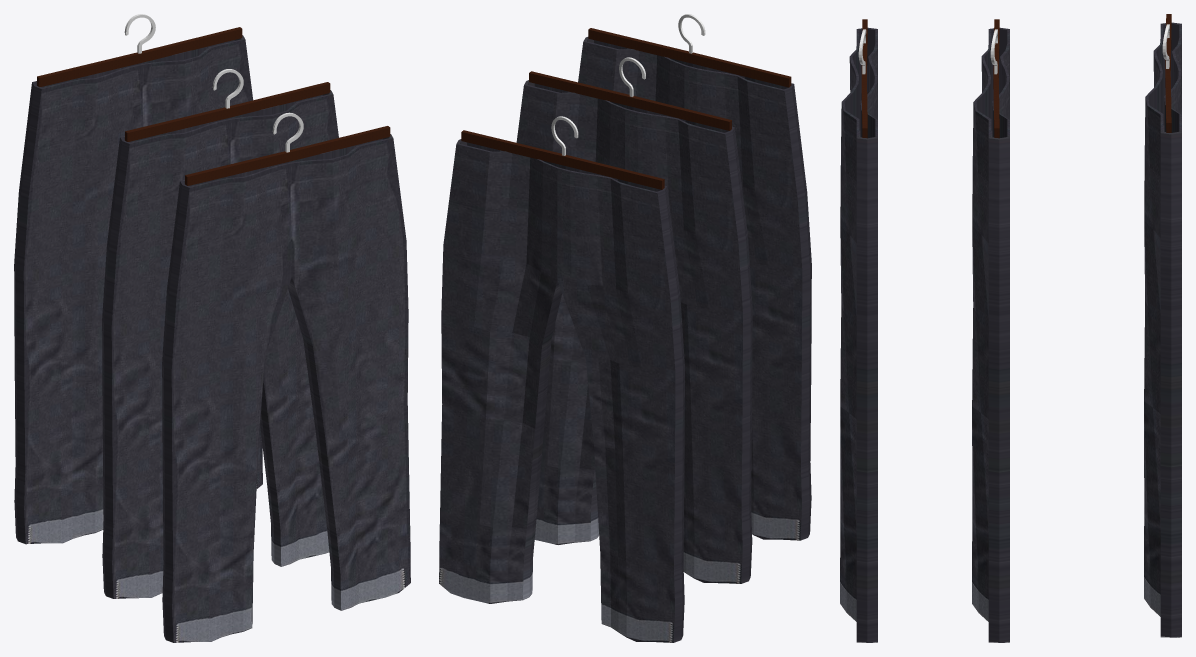
File: jack_o_3.glb
3 renders of one model, left to right at view 1: azimuth 30°, elevation 25°; view 2: azimuth 150°, elevation 25°; view 3: azimuth 270°, elevation 25°, orthographic. The views are drawn at different scales.
Parts seen in each view (by area): view 1: Plane.036; view 2: Plane.036; view 3: Plane.036.
Boxes of the visible parts, left/top/right/bottom form: Plane.036: left=14, top=14, right=410, bottom=642; Plane.036: left=439, top=14, right=811, bottom=642; Plane.036: left=840, top=14, right=1181, bottom=642.
Bounding box in the file's own units: 0.2476 × 0.4706 × 0.2617.
Materials: 3 (3 with a texture image).
